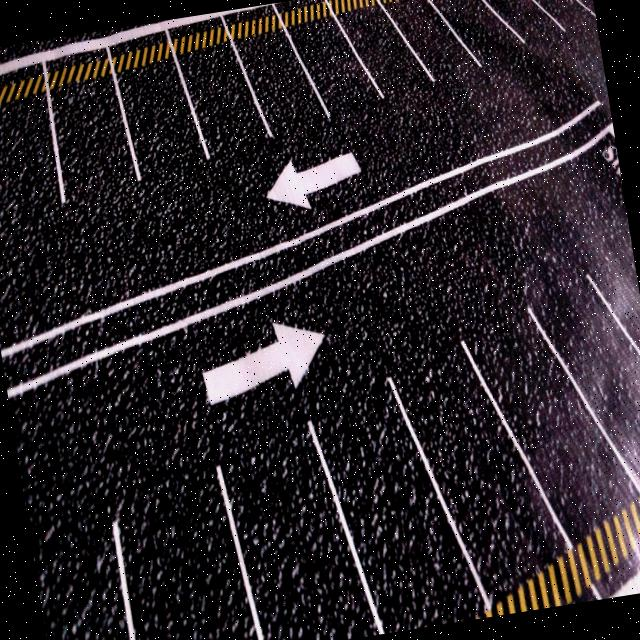slots: (394, 342, 563, 600), (222, 375, 377, 640), (469, 303, 639, 544), (319, 383, 483, 631), (527, 260, 640, 479), (235, 28, 327, 151), (51, 74, 136, 207), (117, 58, 204, 176), (179, 43, 266, 157), (0, 92, 60, 249), (290, 18, 372, 116), (345, 5, 419, 98), (390, 0, 475, 80), (432, 0, 530, 68), (487, 0, 567, 58), (535, 0, 597, 32)
